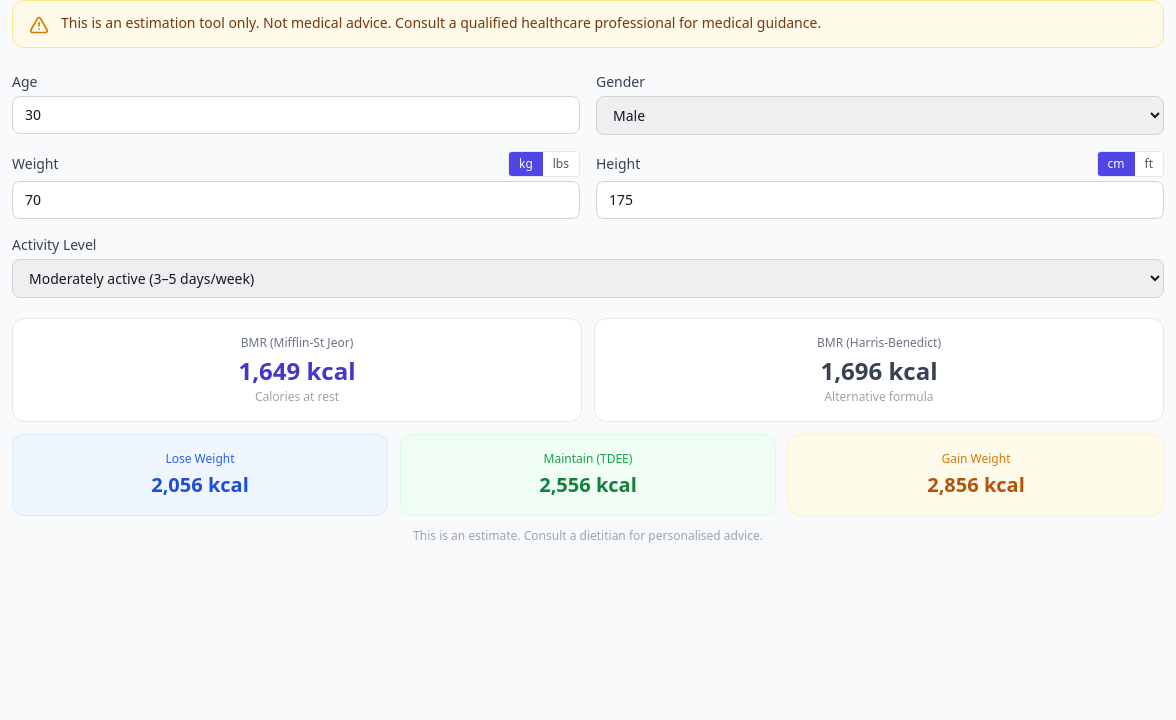
Test: BmrCalculator › Mifflin-St Jeor formula: Male, 30y, 70kg, 175cm, sedentary → BMR ≈ 1,649, TDEE ≈ 1,979
# Activity level is the second combobox (after gender)
Select "Sedentary (little/no exercise)" in the dropdown below "Activity Level": (588, 278) left=12, top=259, right=1164, bottom=298
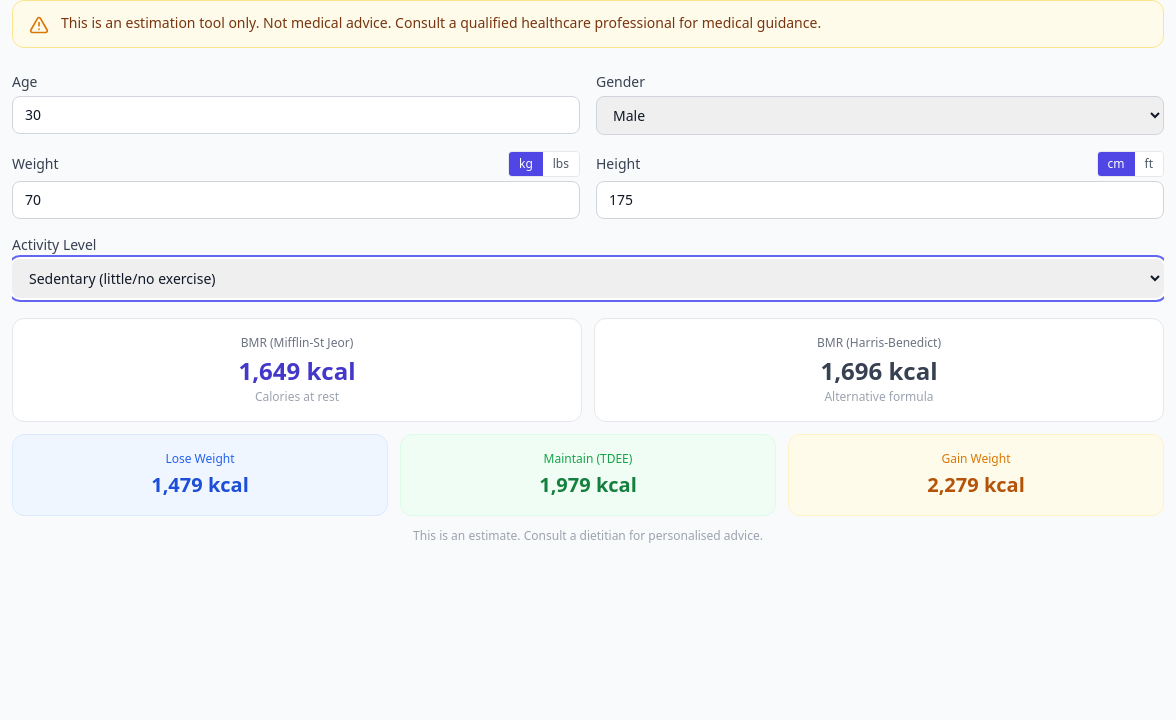
Expected: the text "1,649 kcal" is shown, left=238, top=354, right=356, bottom=387
Expected: the text "1,979 kcal" is shown, left=539, top=471, right=637, bottom=498
